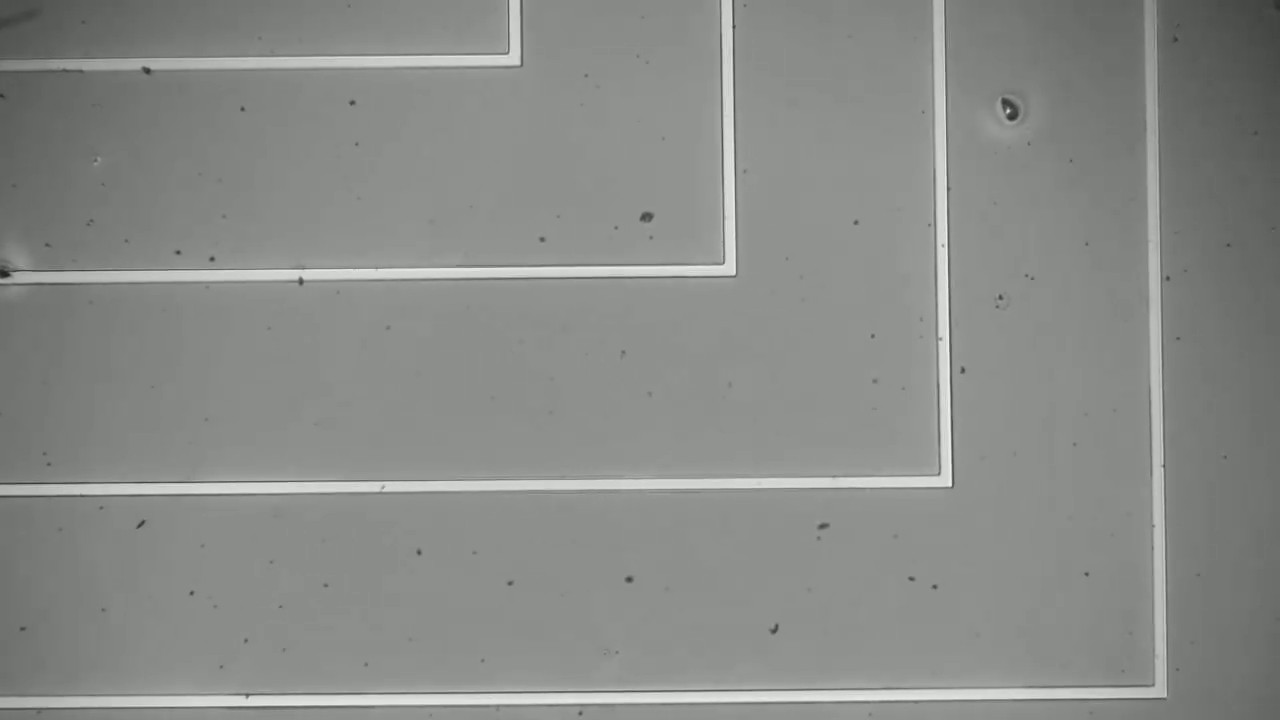stains_enbedded: (1, 256, 18, 291)
